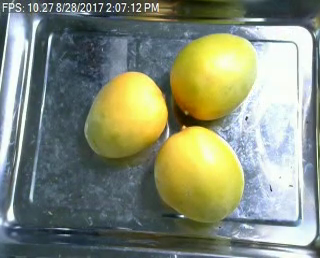Mango: (156, 123, 244, 222), (169, 34, 257, 123), (82, 70, 166, 161)
